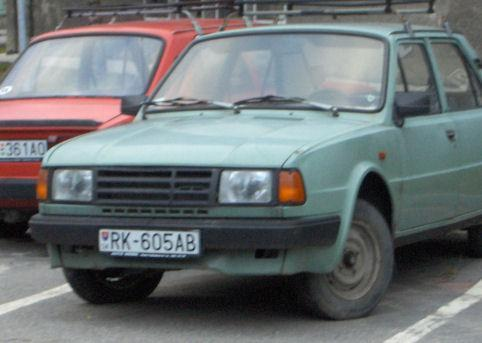placa de veiculo: (86, 222, 209, 272), (0, 138, 51, 167)
